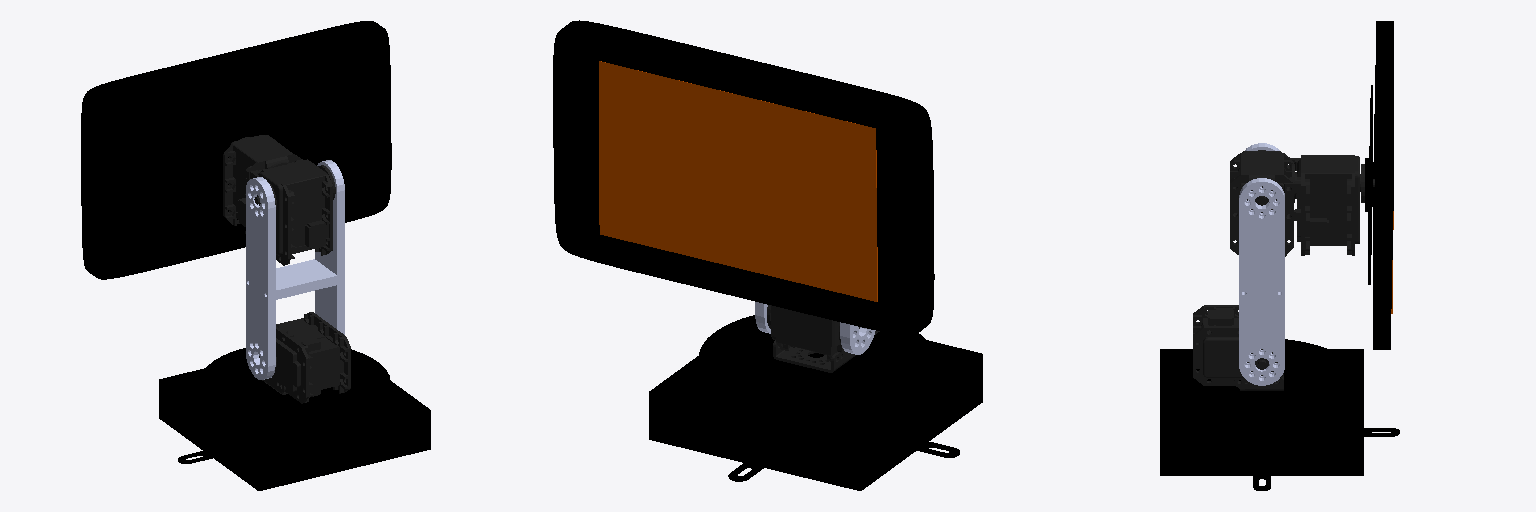
robot.urdf — mobi_head_urdf:
<robot
  name="mobi_head_urdf">
  <link
    name="base_link">
    <inertial>
      <origin
        xyz="0 0.0018045 -0.039994"
        rpy="0 0 0" />
      <mass
        value="0.3555" />
      <inertia
        ixx="0.00040436"
        ixy="3.4016E-20"
        ixz="-9.0031E-21"
        iyy="0.000405"
        iyz="-1.3023E-07"
        izz="0.00075624" />
    </inertial>
    <visual>
      <origin
        xyz="0 0 0"
        rpy="0 0 0" />
      <geometry>
        <mesh
          filename="package://mobi_head/urdf/meshes/base_link.STL" />
      </geometry>
      <material
        name="">
        <color
          rgba="0 0 0 1" />
      </material>
    </visual>
    <collision>
      <origin
        xyz="0 0 0"
        rpy="0 0 0" />
      <geometry>
        <mesh
          filename="package://mobi_head/urdf/meshes/base_link.STL" />
      </geometry>
    </collision>
  </link>
  <link
    name="Neck_Pan_Link">
    <inertial>
      <origin
        xyz="0.00058898 -0.00894 -6.4615E-05"
        rpy="0 0 0" />
      <mass
        value="0.09" />
      <inertia
        ixx="1.3697E-05"
        ixy="2.8421E-07"
        ixz="2.5442E-09"
        iyy="8.9996E-06"
        iyz="1.7691E-07"
        izz="1.1467E-05" />
    </inertial>
    <visual>
      <origin
        xyz="0 0 0"
        rpy="0 0 0" />
      <geometry>
        <mesh
          filename="package://mobi_head/urdf/meshes/Neck_Pan_Link.STL" />
      </geometry>
      <material
        name="">
        <color
          rgba="0.1569 0.1569 0.1569 1" />
      </material>
    </visual>
    <collision>
      <origin
        xyz="0 0 0"
        rpy="0 0 0" />
      <geometry>
        <mesh
          filename="package://mobi_head/urdf/meshes/Neck_Pan_Link.STL" />
      </geometry>
    </collision>
  </link>
  <joint
    name="Neck_Pan_Joint"
    type="revolute">
    <origin
      xyz="0 0 0"
      rpy="0 1.5708 0" />
    <parent
      link="base_link" />
    <child
      link="Neck_Pan_Link" />
    <axis
      xyz="-1 0 0" />
    <limit
      lower="-1.5708"
      upper="1.5708"
      effort="3.1"
      velocity="3.1416" />
  </joint>
  <link
    name="Neck_Tilt_Link">
    <inertial>
      <origin
        xyz="0.048937 -0.0205 2.3419E-17"
        rpy="0 0 0" />
      <mass
        value="0.1" />
      <inertia
        ixx="1.7921E-05"
        ixy="6.2701E-21"
        ixz="1.0872E-20"
        iyy="3.3393E-05"
        iyz="4.1427E-21"
        izz="4.7379E-05" />
    </inertial>
    <visual>
      <origin
        xyz="0 0 0"
        rpy="0 0 0" />
      <geometry>
        <mesh
          filename="package://mobi_head/urdf/meshes/Neck_Tilt_Link.STL" />
      </geometry>
      <material
        name="">
        <color
          rgba="0.79216 0.81961 0.93333 1" />
      </material>
    </visual>
    <collision>
      <origin
        xyz="0 0 0"
        rpy="0 0 0" />
      <geometry>
        <mesh
          filename="package://mobi_head/urdf/meshes/Neck_Tilt_Link.STL" />
      </geometry>
    </collision>
  </link>
  <joint
    name="Neck_Tilt_Joint"
    type="revolute">
    <origin
      xyz="0 0.0017774 -0.0205"
      rpy="-1.5708 -1.2246E-16 3.1416" />
    <parent
      link="Neck_Pan_Link" />
    <child
      link="Neck_Tilt_Link" />
    <axis
      xyz="0 1 0" />
    <limit
      lower="-1.5708"
      upper="1.5708"
      effort="3.1"
      velocity="3.14159265" />
  </joint>
  <link
    name="Head_Tilt_Link">
    <inertial>
      <origin
        xyz="-0.018556 -0.010813 -0.020532"
        rpy="0 0 0" />
      <mass
        value="0.18" />
      <inertia
        ixx="2.4256E-05"
        ixy="-3.8511E-07"
        ixz="-5.5741E-08"
        iyy="4.7591E-05"
        iyz="1.7779E-07"
        izz="5.4899E-05" />
    </inertial>
    <visual>
      <origin
        xyz="0 0 0"
        rpy="0 0 0" />
      <geometry>
        <mesh
          filename="package://mobi_head/urdf/meshes/Head_Tilt_Link.STL" />
      </geometry>
      <material
        name="">
        <color
          rgba="0.1569 0.1569 0.1569 1" />
      </material>
    </visual>
    <collision>
      <origin
        xyz="0 0 0"
        rpy="0 0 0" />
      <geometry>
        <mesh
          filename="package://mobi_head/urdf/meshes/Head_Tilt_Link.STL" />
      </geometry>
    </collision>
  </link>
  <joint
    name="Head_Tilt_Joint"
    type="revolute">
    <origin
      xyz="0.1 0 0"
      rpy="-1.5708 -1.5615 -1.1169E-13" />
    <parent
      link="Neck_Tilt_Link" />
    <child
      link="Head_Tilt_Link" />
    <axis
      xyz="0 0 -1" />
    <limit
      lower="-1.5708"
      upper="1.5708"
      effort="3.1"
      velocity="3.14159265" />
  </joint>
  <link
    name="Head_Roll_Link">
    <inertial>
      <origin
        xyz="2.235E-09 0.00062838 0.0046157"
        rpy="0 0 0" />
      <mass
        value="0.3" />
      <inertia
        ixx="0.00029035"
        ixy="1.7155E-09"
        ixz="-1.5765E-11"
        iyy="0.00079272"
        iyz="-2.6549E-06"
        izz="0.0010777" />
    </inertial>
    <visual>
      <origin
        xyz="0 0 0"
        rpy="0 3.14159265 0" />
      <geometry>
        <mesh
          filename="package://mobi_head/urdf/meshes/Head_Roll_Link.STL" />
      </geometry>
      <material
        name="">
        <color
          rgba="0 0 0 1" />
      </material>
    </visual>
    <collision>
      <origin
        xyz="0 0 0"
        rpy="0 3.14159265 0" />
      <geometry>
        <mesh
          filename="package://mobi_head/urdf/meshes/Head_Roll_Link.STL" />
      </geometry>
    </collision>
  </link>
  <joint
    name="Head_Roll_Joint"
    type="revolute">
    <origin
      xyz="-0.06285 0 -0.0205"
      rpy="3.1416 -1.5708 0" />
    <parent
      link="Head_Tilt_Link" />
    <child
      link="Head_Roll_Link" />
    <axis
      xyz="0 -0.0093137 -0.99996" />
    <limit
      lower="-1.5708"
      upper="1.5708"
      effort="3.1"
      velocity="3.14159265" />
  </joint>
  <link
    name="Screen_Link">
    <inertial>
      <origin
        xyz="0.0 0.0 0.0"
        rpy="0 0 0" />
      <mass
        value="0.001" />
      <inertia
        ixx="0.0"
        ixy="0.0"
        ixz="0.0"
        iyy="0.0"
        iyz="0.0"
        izz="0.0" />
    </inertial>
    <visual>
      <origin
        xyz="0 0 0"
        rpy="0 3.14159265 1.5708" />
      <geometry>
        <box size="0.09 0.15 0.001"/>
      </geometry>
      <material
        name="">
          <texture filename="package://mobi_head/urdf/mObi_neutral_expression_texture.png" />
      </material>
    </visual>
    <collision>
      <origin
        xyz="0 0 0"
        rpy="0 3.14159265 1.5708" />
      <geometry>
        <box size="0.09 0.15 0.001"/>
      </geometry>
    </collision>
  </link>
  <joint
    name="Screen_Joint"
    type="fixed">
    <origin
      xyz="0.0 0.0 -0.01"
      rpy="0 0 0" />
    <parent
      link="Head_Roll_Link" />
    <child
      link="Screen_Link" />
    <axis
      xyz="0 0 0" />
  </joint>
</robot>

--- What the picture shows (computed from the rendered views, not written in the file) ---
The picture shows the robot from 3 angles, left to right: view 1: azimuth 30°, elevation 25°; view 2: azimuth 150°, elevation 25°; view 3: azimuth 270°, elevation 25°; orthographic projection.
Robot: mobi_head_urdf — 6 links, 5 joints (4 revolute, 1 fixed); root link base_link; default pose: all joints at 0.
Links seen in each view (by area): view 1: Head_Roll_Link, base_link, Neck_Tilt_Link, Head_Tilt_Link, Neck_Pan_Link; view 2: Screen_Link, Head_Roll_Link, base_link, Neck_Pan_Link, Neck_Tilt_Link; view 3: base_link, Head_Tilt_Link, Neck_Tilt_Link, Head_Roll_Link, Neck_Pan_Link.
Boxes of the visible links, bbox=[...] form: Head_Roll_Link: bbox=[81, 21, 391, 279]; base_link: bbox=[159, 348, 430, 490]; Neck_Tilt_Link: bbox=[246, 160, 344, 379]; Head_Tilt_Link: bbox=[223, 135, 335, 265]; Neck_Pan_Link: bbox=[259, 312, 350, 403]; Screen_Link: bbox=[599, 61, 877, 301]; Head_Roll_Link: bbox=[553, 20, 934, 335]; base_link: bbox=[649, 315, 982, 490]; Neck_Pan_Link: bbox=[767, 305, 879, 372]; Neck_Tilt_Link: bbox=[755, 302, 875, 354]; base_link: bbox=[1160, 339, 1399, 490]; Head_Tilt_Link: bbox=[1230, 150, 1374, 256]; Neck_Tilt_Link: bbox=[1239, 143, 1284, 385]; Head_Roll_Link: bbox=[1365, 21, 1393, 349]; Neck_Pan_Link: bbox=[1193, 305, 1283, 390].
Bounding box of the posed robot: 0.2 × 0.1343 × 0.2128 m (x, y, z).
5 mesh visuals loaded from 5 distinct referenced files (5 binary STL).